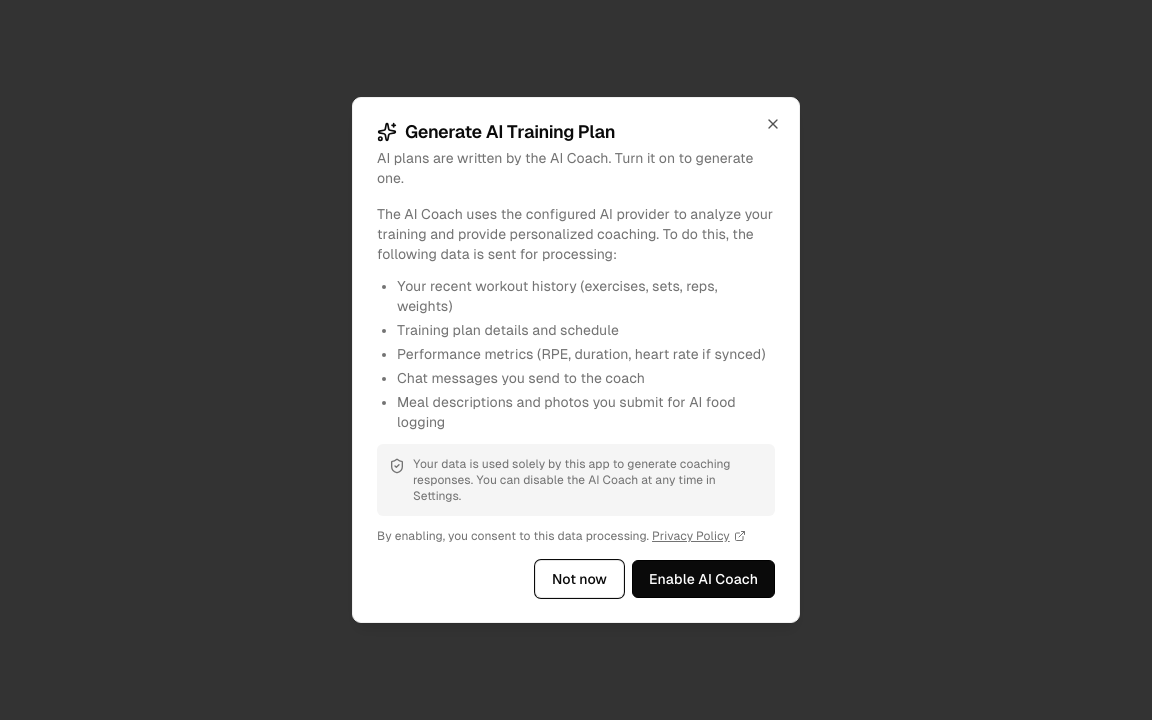
Scenario: GeneratePlanDialog AI consent › saves the consent and continues to the plan steps
Click the button "Enable AI Coach" at (704,579), box [632,560,775,598]
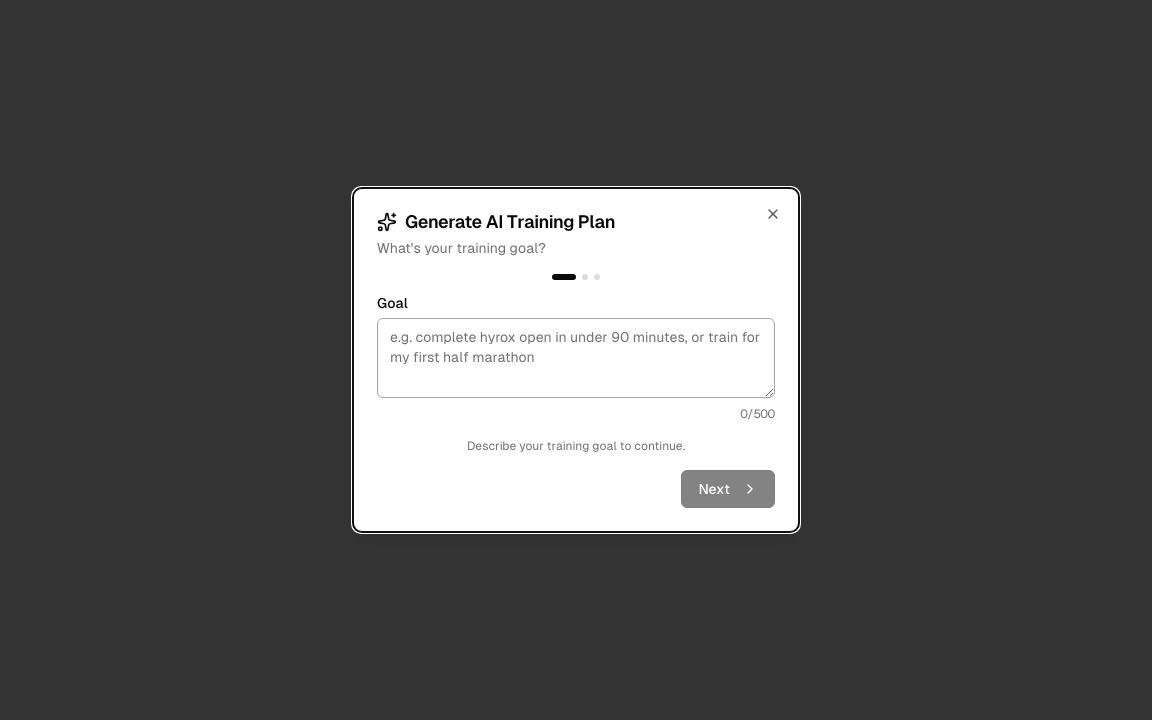
Check: the text box labelled "Goal" is shown, box [377,318,775,398]
